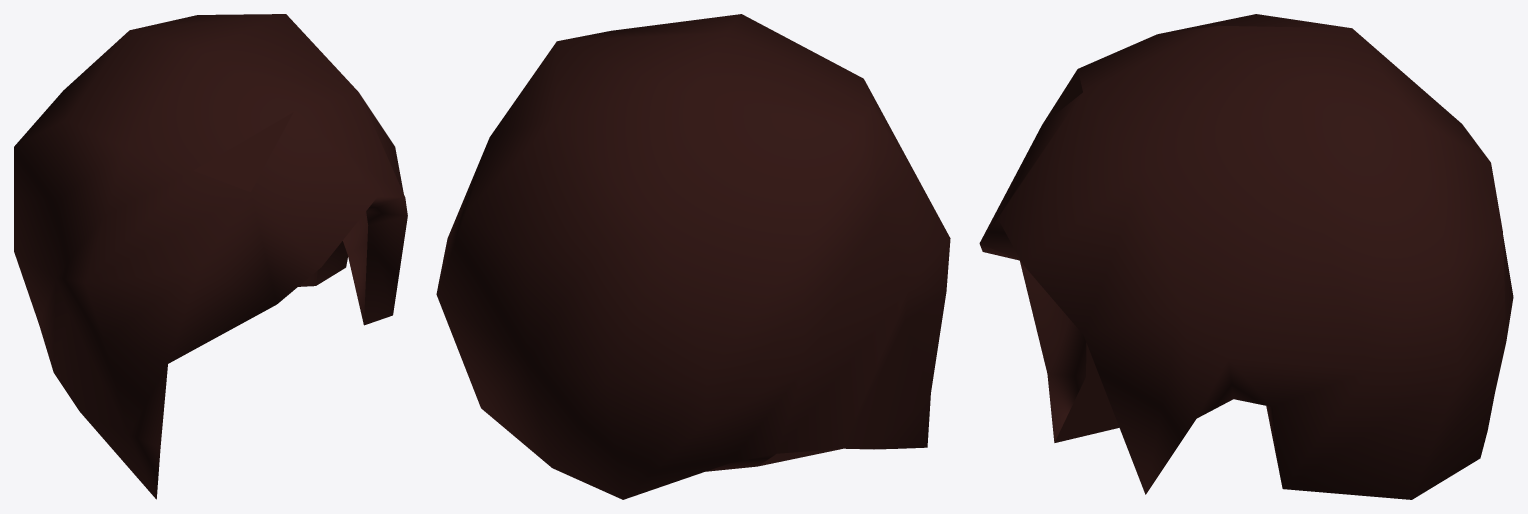
Rendered from HairKarenBrown.fbx.
3 views of the same model, side by side, from view 1: azimuth 30°, elevation 25°; view 2: azimuth 150°, elevation 25°; view 3: azimuth 270°, elevation 25° (orthographic). The views are drawn at different scales.
Visible parts, largest first — view 1: HairKarenBrown; view 2: HairKarenBrown; view 3: HairKarenBrown.
Boxes of the visible parts, <box> form: HairKarenBrown: <box>14,14,407,499</box>; HairKarenBrown: <box>436,14,950,499</box>; HairKarenBrown: <box>979,14,1513,499</box>.
Bounding box in the file's own units: 55.77 × 59.13 × 58.89.
